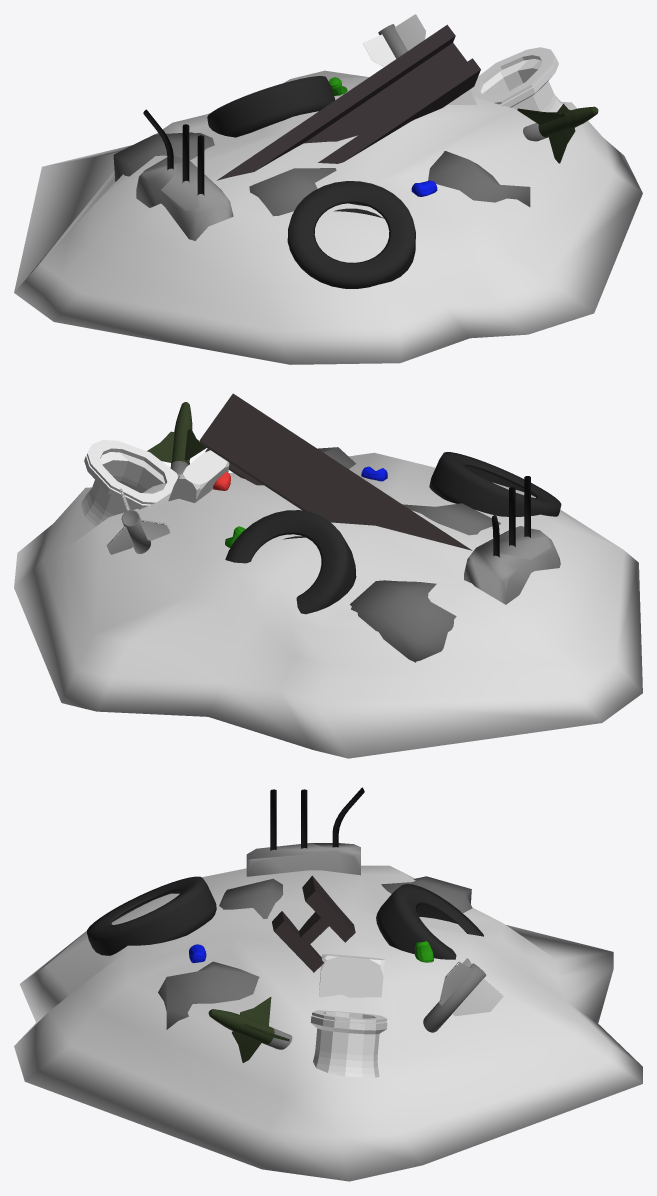
File: Trash_Pile_1.fbx
3 views of the same model, one above another, from view 1: azimuth 30°, elevation 25°; view 2: azimuth 150°, elevation 25°; view 3: azimuth 270°, elevation 25° (orthographic). The views are drawn at different scales.
Visible parts, largest first — view 1: Cube, Cube.001, Cylinder.001, Cube.008, Cylinder, Cylinder.011, Cube.009, Cube.010, Cube.011, Cylinder.005, Cube.005, Cube.007; view 2: Cube, Cube.001, Cylinder, Cube.011, Cylinder.011, Cylinder.001, Cube.008, Cube.012, Cube.010, Cylinder.005, Cylinder.006; view 3: Cube, Cylinder.001, Cylinder.011, Cylinder, Cube.009, Cube.008, Cube.001, Cube.012, Cube.010, Cylinder.006, Cube.011, Cylinder.005 (+2 smaller).
Boxes of the visible parts, left/top/right/bottom form: Cube: left=14, top=70, right=642, bottom=364; Cube.001: left=217, top=24, right=480, bottom=180; Cylinder.001: left=287, top=181, right=415, bottom=288; Cube.008: left=136, top=155, right=233, bottom=240; Cylinder: left=207, top=76, right=335, bottom=137; Cylinder.011: left=470, top=47, right=562, bottom=112; Cube.009: left=428, top=151, right=530, bottom=206; Cube.010: left=249, top=168, right=336, bottom=216; Cube.011: left=113, top=132, right=214, bottom=181; Cylinder.005: left=538, top=106, right=598, bottom=137; Cube.005: left=394, top=14, right=425, bottom=50; Cube.007: left=362, top=34, right=395, bottom=66; Cube: left=14, top=452, right=642, bottom=758; Cube.001: left=199, top=393, right=472, bottom=550; Cylinder: left=225, top=510, right=356, bottom=614; Cube.011: left=350, top=580, right=456, bottom=662; Cylinder.011: left=81, top=440, right=177, bottom=526; Cylinder.001: left=429, top=452, right=561, bottom=516; Cube.008: left=464, top=526, right=560, bottom=604; Cube.012: left=168, top=450, right=229, bottom=502; Cube.010: left=402, top=503, right=500, bottom=535; Cylinder.005: left=171, top=402, right=192, bottom=464; Cylinder.006: left=121, top=510, right=150, bottom=553; Cube: left=14, top=865, right=642, bottom=1181; Cylinder.001: left=87, top=876, right=216, bottom=955; Cylinder.011: left=310, top=1010, right=387, bottom=1077; Cylinder: left=376, top=884, right=483, bottom=959; Cube.009: left=158, top=961, right=259, bottom=1029; Cube.008: left=246, top=843, right=360, bottom=876; Cube.001: left=272, top=875, right=355, bottom=972; Cube.012: left=319, top=954, right=384, bottom=997; Cube.010: left=219, top=878, right=283, bottom=918; Cylinder.006: left=423, top=963, right=486, bottom=1032; Cube.011: left=381, top=876, right=472, bottom=912; Cylinder.005: left=208, top=1009, right=274, bottom=1044.
Size of the model in its own units: 857 by 275 by 777.
